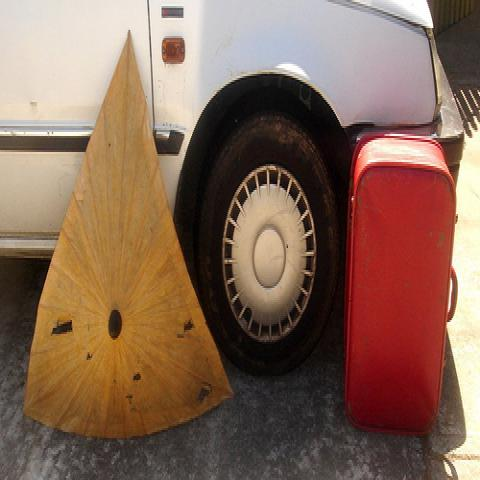car: (1, 0, 465, 375)
